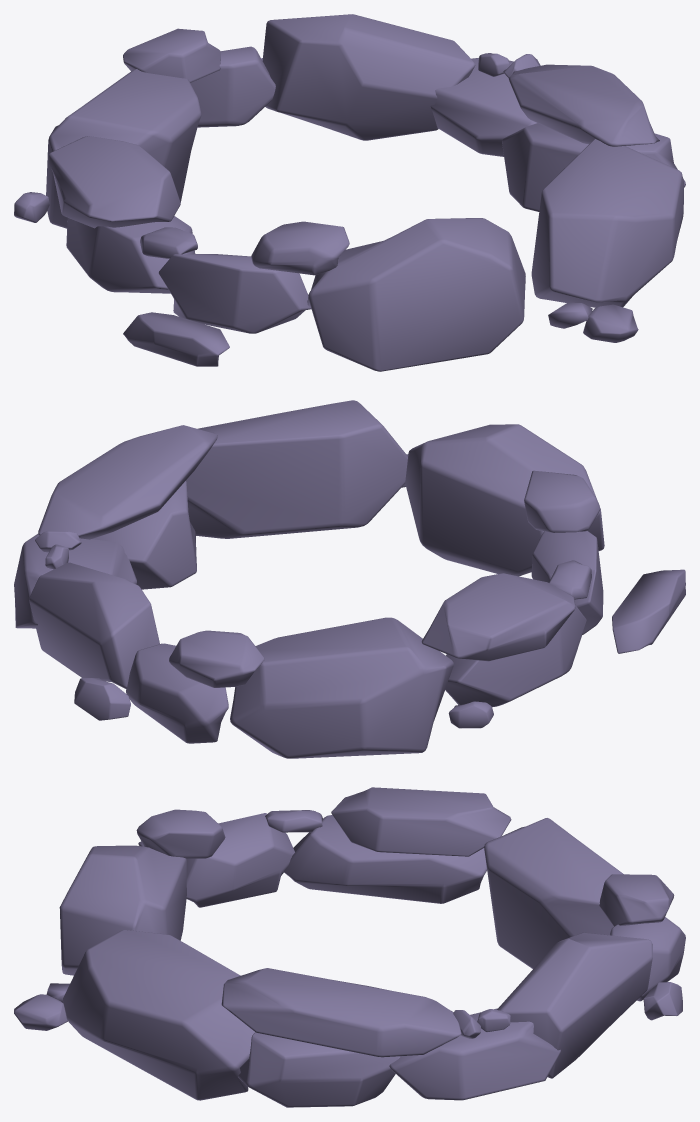
The model's file is campfire.fbx.
The picture shows the model from 3 angles, top to bottom: view 1: azimuth 30°, elevation 25°; view 2: azimuth 150°, elevation 25°; view 3: azimuth 270°, elevation 25°; orthographic projection. The views are drawn at different scales.
Parts seen in each view (by area): view 1: Sphere.042, Sphere.078, Sphere.074, Sphere.080, Sphere.087, Sphere.076, Sphere.083, Sphere.089, Sphere.077, Sphere.092, Sphere.086, Sphere.081 (+7 smaller); view 2: Sphere.080, Sphere.074, Sphere.042, Sphere.078, Sphere.083, Sphere.087, Sphere.086, Sphere.089, Sphere.092, Sphere.079, Sphere.082, Sphere.081 (+6 smaller); view 3: Sphere.074, Sphere.083, Sphere.080, Sphere.078, Sphere.042, Sphere.089, Sphere.087, Sphere.077, Sphere.092, Sphere.076, Sphere.081, Sphere.079 (+6 smaller).
Boxes of the visible parts, box(x1,y1,x2,y2) form: Sphere.042: box(307, 218, 525, 371); Sphere.078: box(262, 14, 475, 140); Sphere.074: box(531, 139, 684, 307); Sphere.080: box(46, 69, 201, 228); Sphere.087: box(49, 136, 180, 228); Sphere.076: box(158, 254, 311, 333); Sphere.083: box(508, 64, 659, 146); Sphere.089: box(66, 216, 195, 293); Sphere.077: box(430, 58, 536, 156); Sphere.092: box(502, 123, 685, 211); Sphere.086: box(190, 46, 275, 127); Sphere.081: box(251, 221, 349, 275); Sphere.080: box(230, 617, 453, 758); Sphere.074: box(186, 400, 407, 538); Sphere.042: box(405, 424, 604, 576); Sphere.078: box(29, 562, 159, 688); Sphere.083: box(38, 425, 217, 539); Sphere.087: box(421, 573, 575, 661); Sphere.086: box(126, 643, 228, 743); Sphere.089: box(445, 605, 586, 707); Sphere.092: box(92, 481, 196, 589); Sphere.079: box(169, 630, 264, 687); Sphere.082: box(612, 569, 685, 653); Sphere.081: box(524, 470, 600, 532); Sphere.074: box(63, 930, 254, 1100); Sphere.083: box(221, 968, 461, 1057); Sphere.080: box(484, 818, 623, 968); Sphere.078: box(497, 932, 652, 1078); Sphere.042: box(59, 845, 186, 975); Sphere.089: box(283, 815, 487, 903); Sphere.087: box(331, 787, 511, 856); Sphere.077: box(389, 1008, 560, 1100); Sphere.092: box(238, 1032, 400, 1107); Sphere.076: box(186, 813, 294, 907); Sphere.081: box(136, 809, 225, 858); Sphere.079: box(599, 874, 674, 926).
Bounding box in the file's own units: 465 × 124 × 517.
